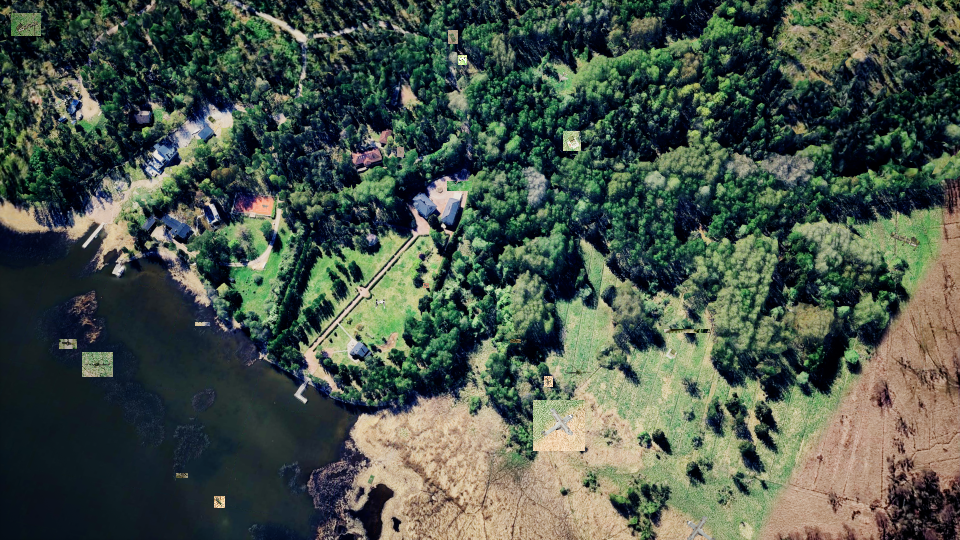condor: (533, 400, 585, 451)
hangar: (664, 329, 710, 333)
helicopter: (82, 352, 113, 377)
jammer: (448, 30, 458, 44)
jet_plane: (447, 181, 472, 191)
large_launcher: (11, 13, 41, 36)
large_tower: (176, 473, 188, 478)
medium_launcher: (510, 339, 521, 343)
medium_plane: (59, 339, 77, 349)
mine_roller: (214, 496, 225, 508)
small_launcher: (397, 147, 404, 157)
small_plane: (544, 376, 553, 387)
small_tower: (563, 131, 581, 151)
spacecraft: (458, 55, 467, 65)
ta-ta: (423, 283, 429, 288)
tank: (195, 322, 210, 326)
